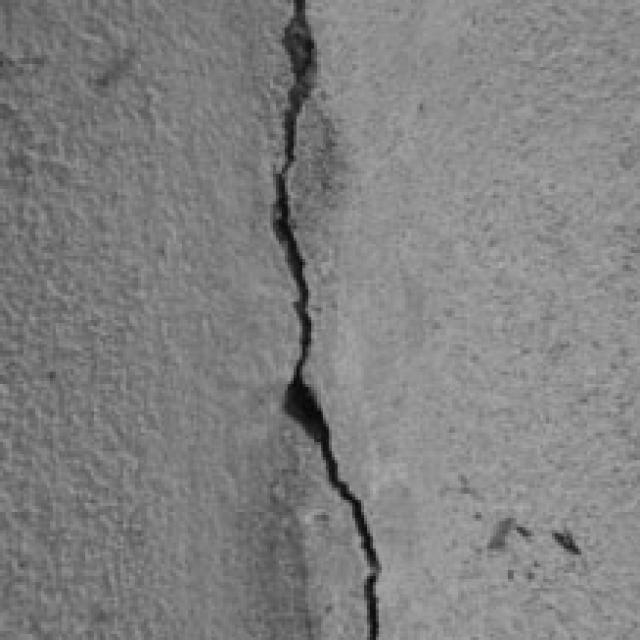Crack: (264, 0, 385, 637)
